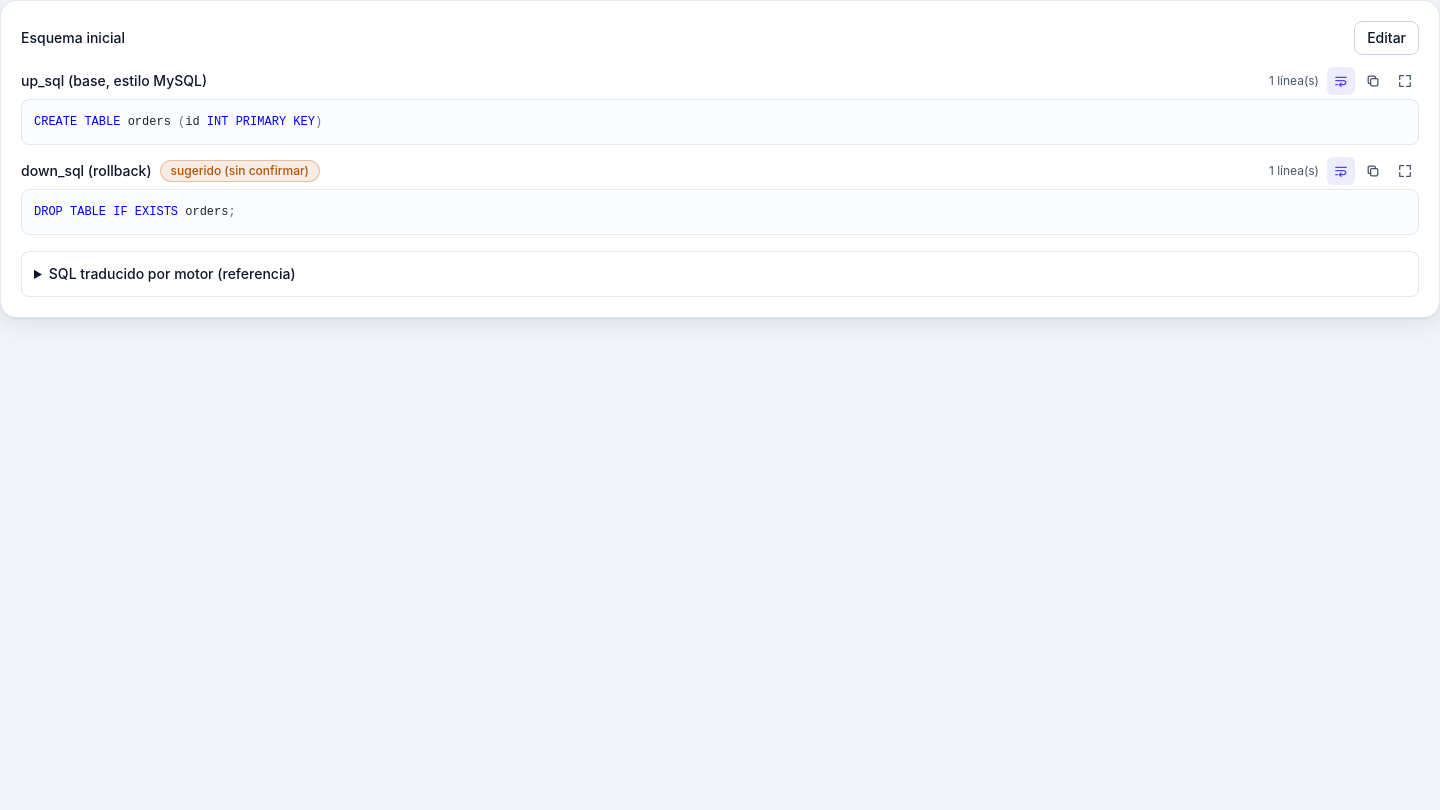
Test: ModelMigrationDetailPanel › «Editar» abre el formulario y «Cancelar» vuelve a lectura
Click the button "Editar": (1387, 38) [1354, 21, 1419, 55]
(page scrolled)
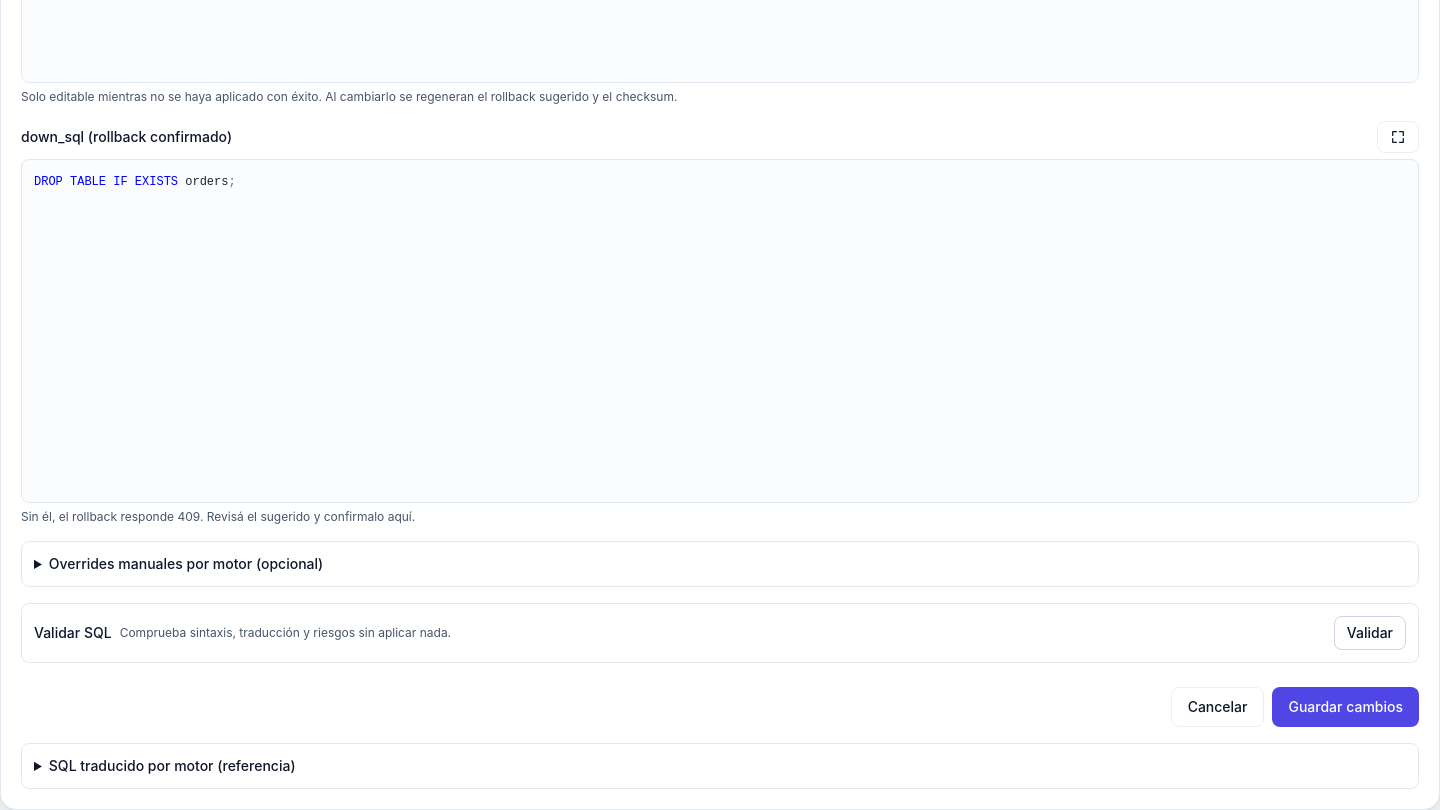
Expected: the button "Guardar cambios" is shown, [1272, 687, 1419, 727]
Click the button "Cancelar": (1218, 707) [1171, 687, 1264, 727]
(page scrolled)
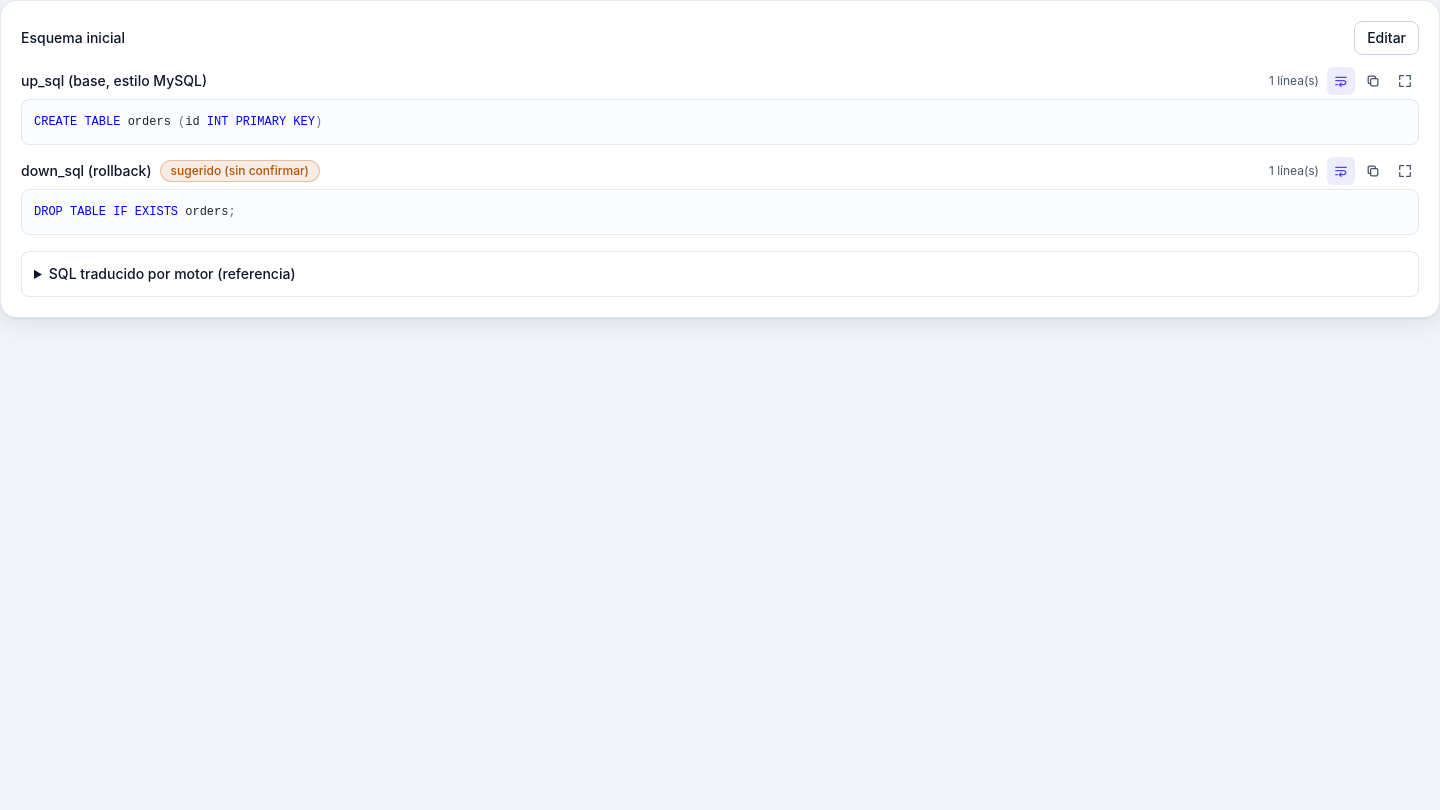
Expected: the button "Guardar cambios" is gone
